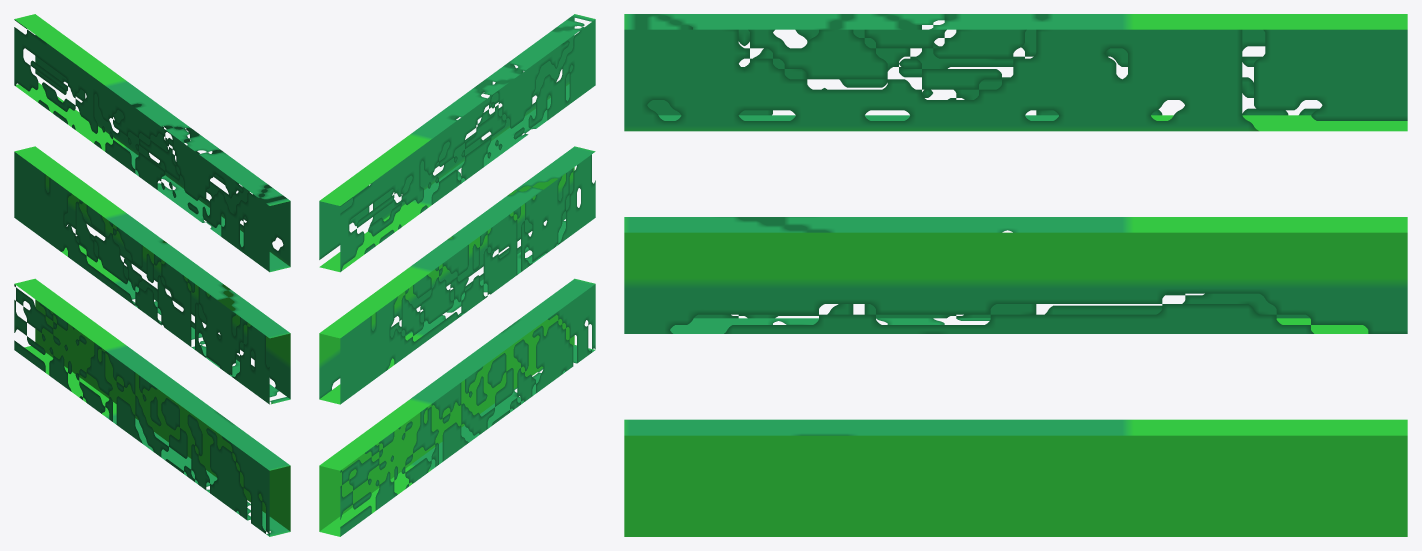
Rendered from Fence.obj.
3 renders of one model, left to right at view 1: azimuth 30°, elevation 25°; view 2: azimuth 150°, elevation 25°; view 3: azimuth 270°, elevation 25°, orthographic. The views are drawn at different scales.
Visible parts, largest first — view 1: Cube.132; view 2: Cube.132; view 3: Cube.132.
Part boxes in pixels (x1=…): Cube.132: x1=14, y1=14, x2=290, y2=536; Cube.132: x1=319, y1=14, x2=595, y2=536; Cube.132: x1=624, y1=14, x2=1407, y2=536.
Bounding box in the file's own units: 0.1 × 1.5 × 2.1.
